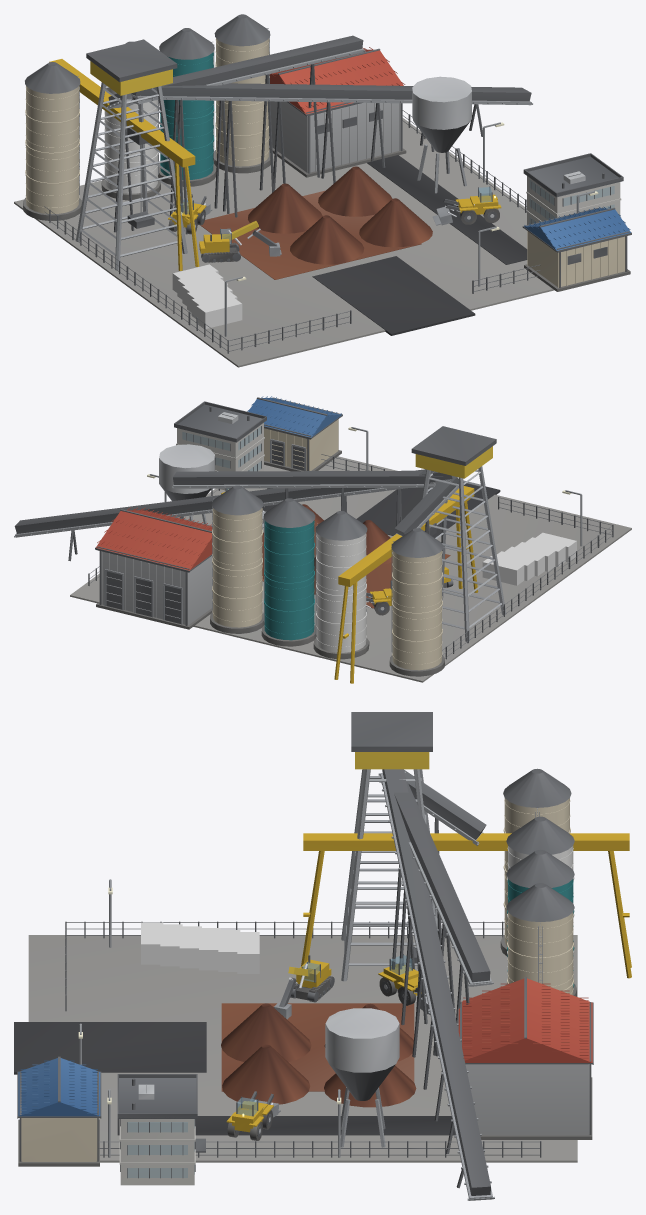
File: Depot_P3.fbx
3 views of the same model, one above another, from view 1: azimuth 30°, elevation 25°; view 2: azimuth 150°, elevation 25°; view 3: azimuth 270°, elevation 25° (orthographic). The views are drawn at different scales.
Visible parts, largest first — view 1: Depot.Yard, Depot.Shed1, Depot.Tower, Depot.ConvMain, Depot.Silo0, Depot.Shed2, Depot.ConvA, Depot.Silo3, Depot.Office, Depot.Silo2, Depot.Hopper, Depot.Gantry (+11 smaller); view 2: Depot.Yard, Depot.Shed1, Depot.Silo0, Depot.Silo2, Depot.Silo3, Depot.Tower, Depot.Silo1, Depot.Shed2, Depot.ConvA, Depot.ConvMain, Depot.Office, Depot.Gantry (+6 smaller); view 3: Depot.Yard, Depot.Shed1, Depot.ConvMain, Depot.Tower, Depot.Office, Depot.Shed2, Depot.Silo3, Depot.ConvA, Depot.Hopper, Depot.Gantry, Depot.Containers, Depot.Fence (+10 smaller).
Part boxes in pixels (x1=…): Depot.Yard: x1=14, y1=118, x2=554, y2=367; Depot.Shed1: x1=269, y1=47, x2=406, y2=177; Depot.Tower: x1=75, y1=39, x2=187, y2=270; Depot.ConvMain: x1=131, y1=83, x2=532, y2=234; Depot.Silo0: x1=23, y1=62, x2=81, y2=220; Depot.Shed2: x1=522, y1=206, x2=631, y2=291; Depot.ConvA: x1=131, y1=35, x2=365, y2=231; Depot.Silo3: x1=213, y1=14, x2=270, y2=173; Depot.Office: x1=523, y1=153, x2=623, y2=224; Depot.Silo2: x1=158, y1=28, x2=216, y2=186; Depot.Hopper: x1=412, y1=76, x2=471, y2=193; Depot.Gantry: x1=49, y1=59, x2=199, y2=270; Depot.Yard: x1=70, y1=456, x2=631, y2=682; Depot.Shed1: x1=95, y1=507, x2=212, y2=629; Depot.Silo0: x1=389, y1=528, x2=444, y2=676; Depot.Silo2: x1=261, y1=498, x2=316, y2=646; Depot.Silo3: x1=210, y1=485, x2=264, y2=633; Depot.Tower: x1=411, y1=426, x2=506, y2=641; Depot.Silo1: x1=313, y1=511, x2=369, y2=659; Depot.Shed2: x1=247, y1=396, x2=342, y2=471; Depot.ConvA: x1=172, y1=470, x2=446, y2=532; Depot.ConvMain: x1=14, y1=469, x2=453, y2=561; Depot.Office: x1=174, y1=401, x2=266, y2=490; Depot.Gantry: x1=334, y1=486, x2=478, y2=683; Depot.Yard: x1=14, y1=935, x2=577, y2=1162; Depot.Shed1: x1=457, y1=977, x2=593, y2=1139; Depot.ConvMain: x1=378, y1=769, x2=494, y2=1200; Depot.Tower: x1=341, y1=712, x2=441, y2=981; Depot.Office: x1=117, y1=1074, x2=205, y2=1185; Depot.Shed2: x1=17, y1=1056, x2=101, y2=1166; Depot.Silo3: x1=506, y1=883, x2=574, y2=995; Depot.ConvA: x1=379, y1=777, x2=493, y2=1055; Depot.Hopper: x1=325, y1=1008, x2=399, y2=1147; Depot.Gantry: x1=301, y1=833, x2=631, y2=978; Depot.Containers: x1=141, y1=922, x2=259, y2=973; Depot.Fence: x1=65, y1=921, x2=541, y2=1157.
Size of the model in its own units: 9111 by 3466 by 8333.
